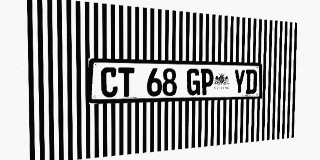6: (147, 68, 162, 96)
8: (162, 68, 177, 96)
C: (101, 67, 118, 97)
D: (245, 69, 257, 94)
G: (187, 68, 200, 95)
P: (200, 69, 214, 95)
T: (118, 67, 134, 97)
Y: (233, 69, 245, 94)
